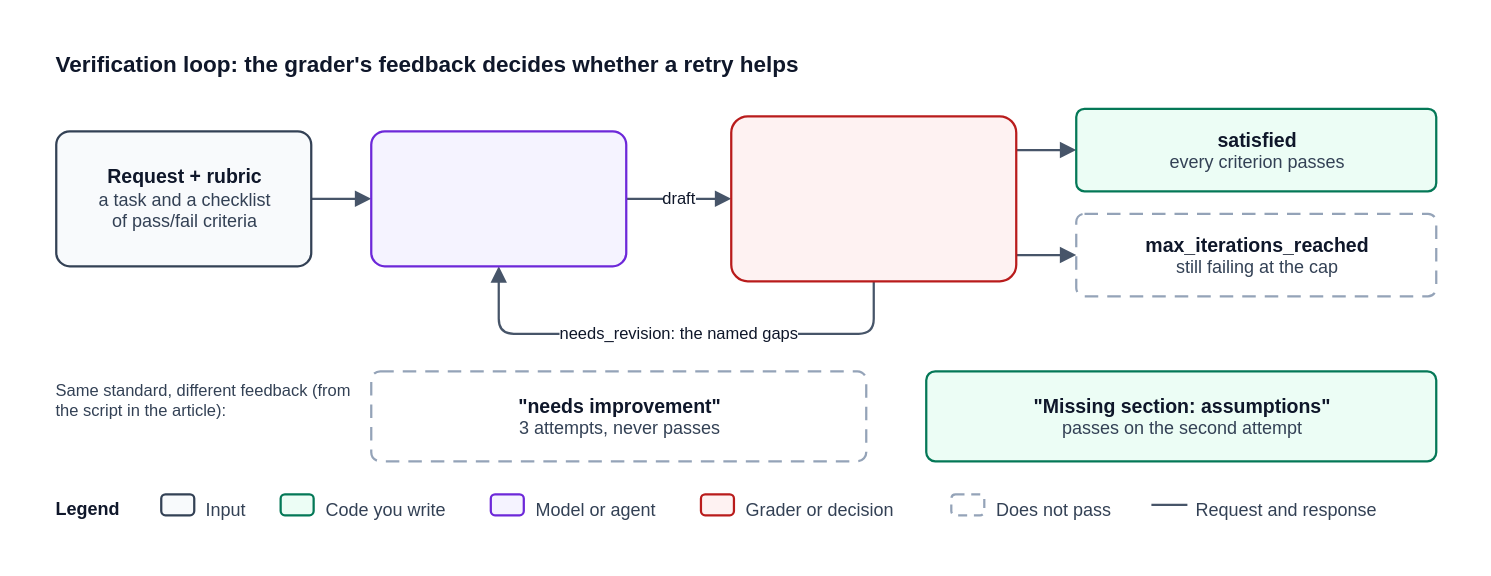
Some shapes in this 1491 by 576 pixel diagram are drawn without their labels. The centre of each missing label's shape, as x and y in pixels:
"Agent run writes a draft (agent loop inside)" belongs at [498,198].
"Grader checks each criterion; can run tools, such as the test suite" belongs at [873,198].
